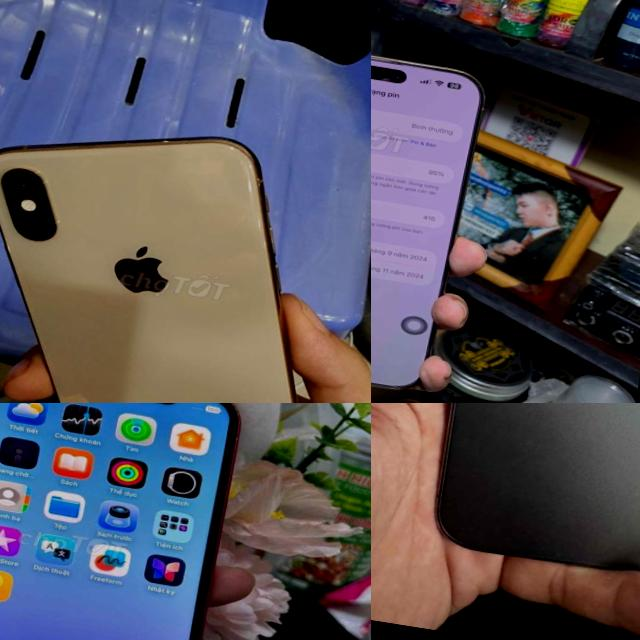gen_11: (0, 403, 254, 640)
gen_12_13: (416, 403, 640, 597)
gen_16: (371, 56, 484, 387)
gen_x_xs: (0, 138, 296, 403)
